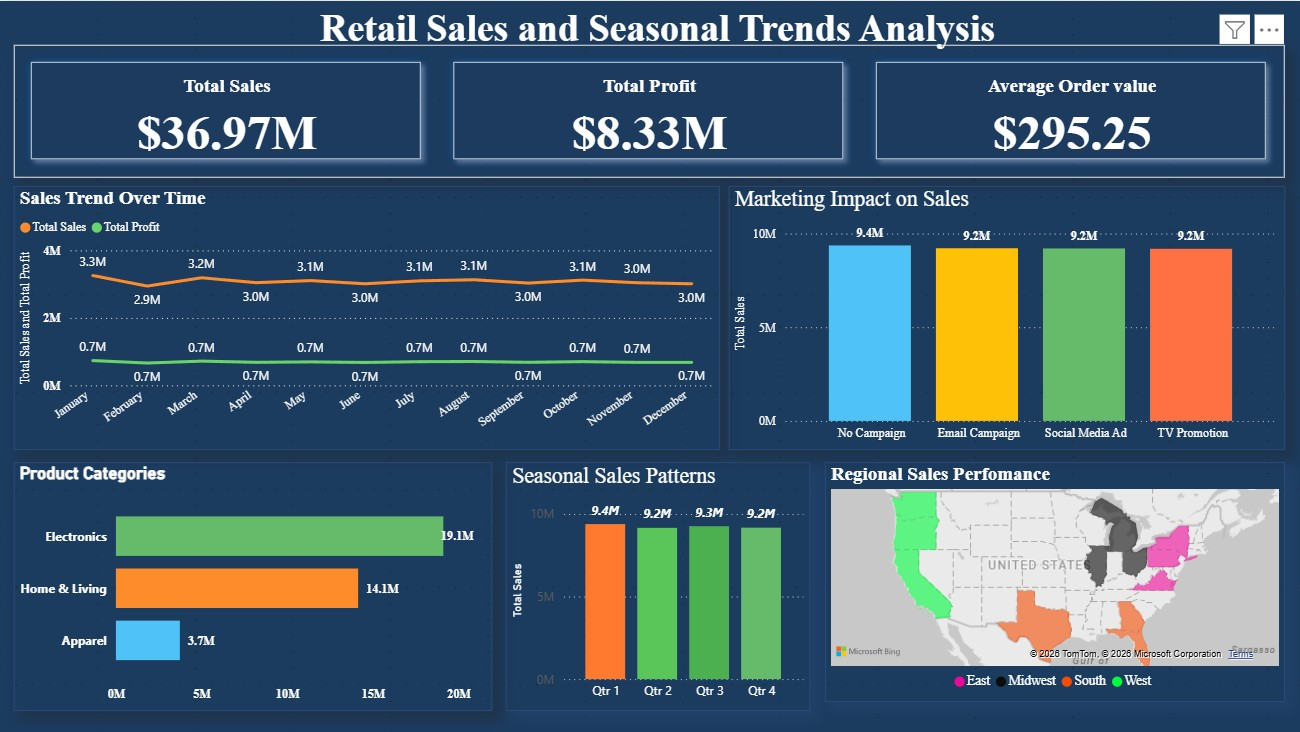

What the dashboard file says about the page in this screenshot:
{"tool":"powerbi","page":{"name":"Page 1","canvas":[1280,720],"ordinal":0},"visuals":[{"type":"textbox","box":[253.5,0,787.7,61.5],"z":0},{"type":"cardVisual","fields":{"Data":["retail_sales_50k_dataset.Total Sales","retail_sales_50k_dataset.Total Profit","retail_sales_50k_dataset.Average Order value"]},"box":[13.5,43.1,1251.7,130.5],"z":1000},{"type":"lineChart","title":"Sales Trend Over Time","fields":{"Category":["retail_sales_50k_dataset.Order_Date.Variation.Date Hierarchy.Month"],"Y":["retail_sales_50k_dataset.Total Sales","retail_sales_50k_dataset.Total Profit"]},"box":[13.5,182.2,695.4,259.7],"z":2000},{"type":"clusteredColumnChart","title":"Seasonal Sales Patterns","fields":{"Category":["retail_sales_50k_dataset.Order_Date.Variation.Date Hierarchy.Quarter"],"Y":["retail_sales_50k_dataset.Total Sales"]},"box":[519,453.6,299.1,253.2],"z":3000},{"type":"clusteredColumnChart","title":"Marketing Impact on Sales","fields":{"Category":["retail_sales_50k_dataset.Campaign"],"Y":["retail_sales_50k_dataset.Total Sales"]},"box":[717.5,182.2,547.7,259.7],"z":4000},{"type":"clusteredBarChart","title":"Product Categories","fields":{"Category":["retail_sales_50k_dataset.Category"],"Y":["retail_sales_50k_dataset.Total Sales"]},"box":[13.5,454.2,471.4,244.9],"z":5000},{"type":"filledMap","title":"Regional Sales Perfomance ","fields":{"Category":["retail_sales_50k_dataset.State"],"Series":["retail_sales_50k_dataset.Region"]},"box":[818.1,453.6,446.6,267.1],"z":6000}]}

Visuals, with their boxes in screenshot pixels (x1, y1, x2, y2), scaled from the page's 1280x720 canvas onto the 1300x732 screenshot:
textbox: [257, 0, 1057, 63]
cardVisual - retail_sales_50k_dataset.Total Sales x retail_sales_50k_dataset.Total Profit: [14, 44, 1285, 176]
"Sales Trend Over Time" lineChart: [14, 185, 720, 449]
"Seasonal Sales Patterns" clusteredColumnChart: [527, 461, 831, 719]
"Marketing Impact on Sales" clusteredColumnChart: [729, 185, 1285, 449]
"Product Categories" clusteredBarChart: [14, 462, 492, 711]
"Regional Sales Perfomance " filledMap: [831, 461, 1284, 731]
